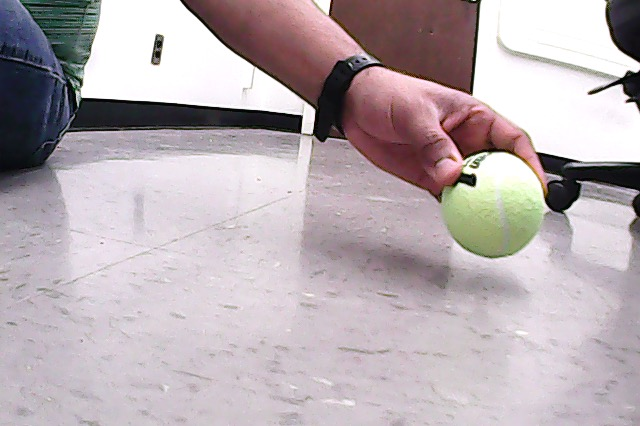ball: (443, 151, 545, 259)
